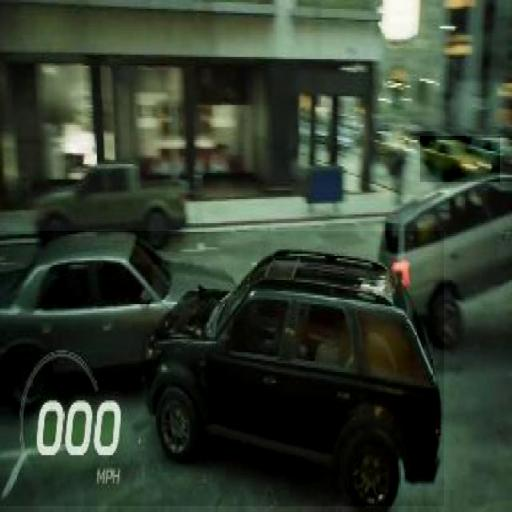小汽车: (381, 174, 512, 348), (26, 162, 190, 246), (420, 136, 500, 182)
小汽车撞小汽车: (0, 231, 444, 506)
